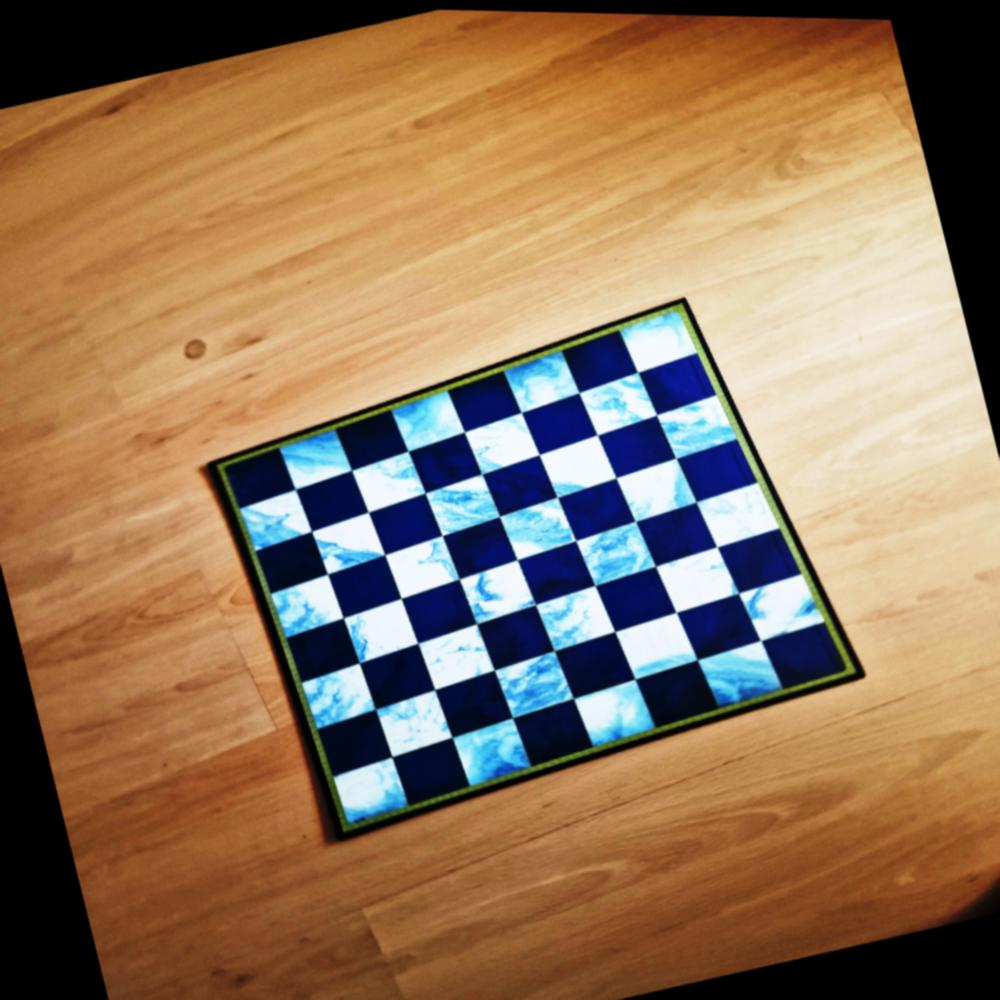chessfield: (617, 301, 704, 376), (602, 610, 687, 683), (570, 676, 655, 748), (696, 637, 781, 709), (649, 540, 733, 611), (564, 518, 648, 589), (652, 388, 736, 459), (610, 452, 694, 522), (760, 618, 844, 688), (448, 719, 530, 790), (740, 570, 822, 641), (669, 592, 752, 662), (528, 579, 609, 650), (630, 658, 713, 727), (488, 648, 568, 719), (498, 347, 580, 416), (576, 370, 659, 438), (631, 498, 714, 566), (384, 385, 465, 454), (713, 522, 796, 589), (328, 755, 406, 826), (417, 624, 496, 694), (370, 688, 449, 758), (548, 631, 628, 700), (688, 480, 769, 548), (583, 563, 664, 631), (531, 430, 613, 497), (381, 534, 460, 603), (274, 427, 354, 495), (339, 598, 417, 667), (512, 696, 591, 764), (432, 667, 511, 735), (419, 471, 498, 539), (458, 410, 538, 477), (301, 663, 378, 732), (265, 572, 343, 640), (392, 735, 470, 803), (494, 493, 574, 559), (452, 557, 530, 624), (347, 448, 426, 514), (313, 711, 390, 778), (477, 601, 554, 668), (514, 536, 593, 601), (670, 441, 749, 506), (594, 413, 672, 478), (554, 475, 633, 539), (355, 646, 430, 713), (400, 575, 476, 641), (560, 328, 637, 393), (320, 556, 397, 620), (308, 511, 383, 575), (518, 393, 594, 456), (640, 353, 716, 416), (237, 487, 311, 551), (365, 493, 440, 556), (332, 408, 408, 470), (440, 517, 514, 580), (293, 469, 368, 531), (222, 447, 294, 511), (404, 433, 478, 495), (446, 370, 520, 432), (284, 619, 357, 681), (482, 451, 556, 512), (254, 531, 324, 592)
